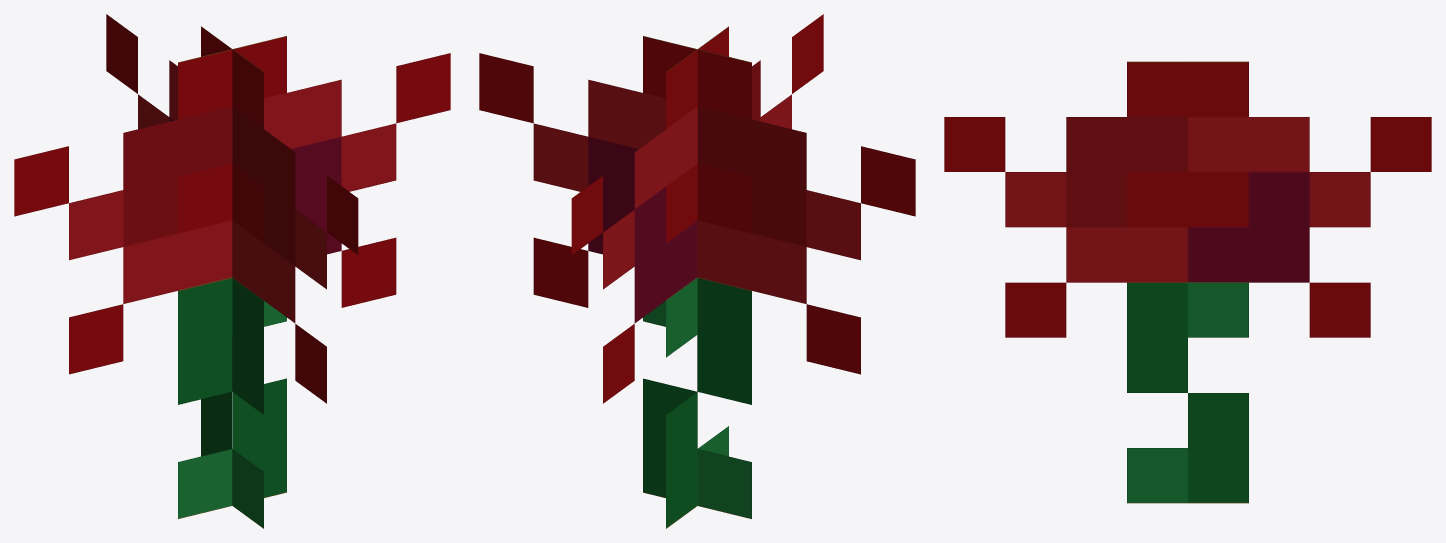
The model's file is flower_01.gltf.
3 views of the same model, side by side, from view 1: azimuth 30°, elevation 25°; view 2: azimuth 150°, elevation 25°; view 3: azimuth 270°, elevation 25° (orthographic). The views are drawn at different scales.
Parts seen in each view (by area): view 1: Plane001; view 2: Plane001; view 3: Plane001.
Part boxes in pixels (x1,y1,x2,y2): Plane001: [14, 14, 450, 528]; Plane001: [479, 14, 915, 528]; Plane001: [944, 61, 1431, 503].
Size of the model in its own units: 0.5 by 0.5 by 0.5.
1 material, 1 textured.
